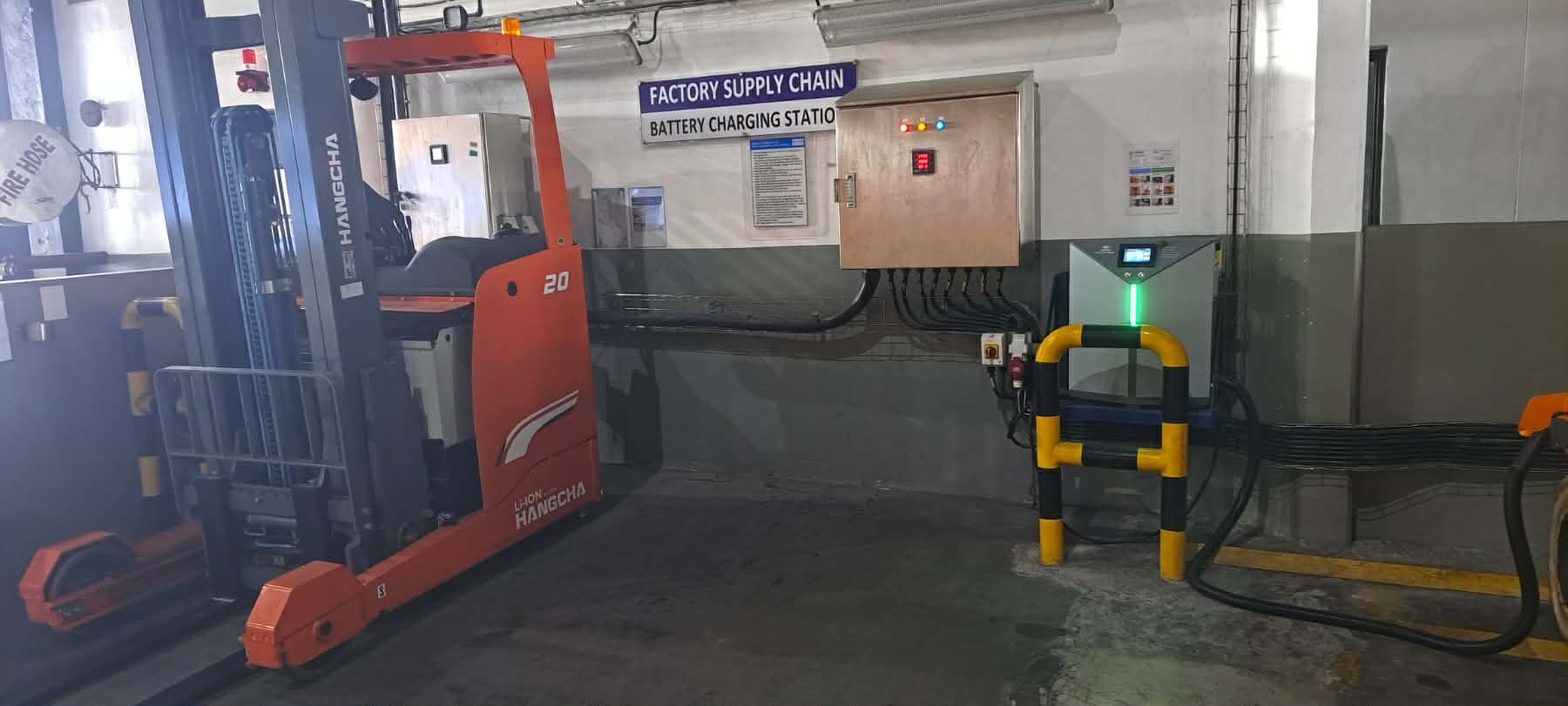forklift: (4, 3, 620, 668)
safety-vest: (1134, 317, 1189, 479), (1513, 386, 1567, 437)
